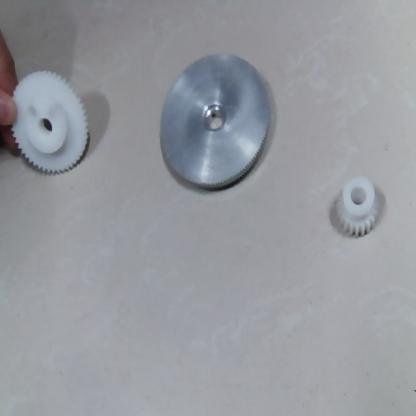FOD: (157, 48, 276, 196), (9, 64, 100, 184), (324, 173, 388, 242)
